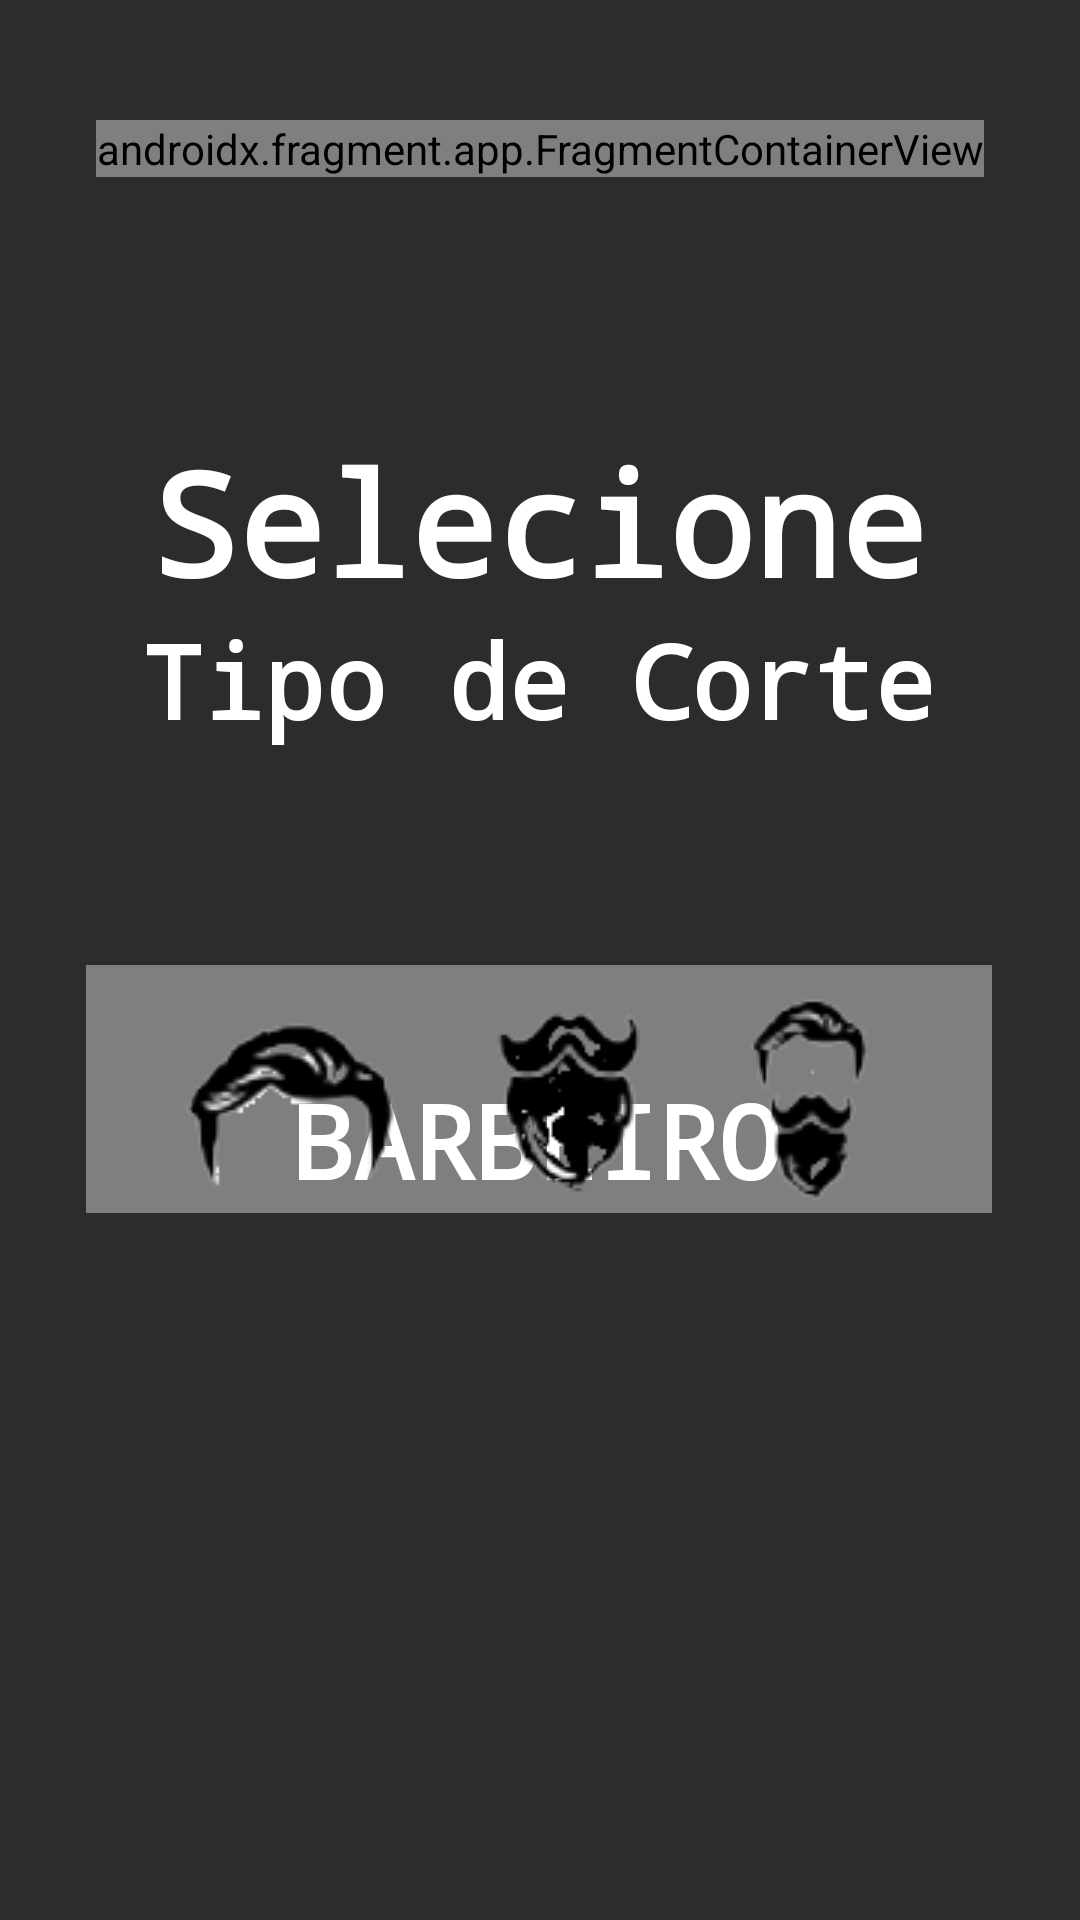

Where icons sit on this 1080px x 1920px app screen, as (x1, y1, x2, y2):
checkboxbarba: (482, 1014, 650, 1191)
